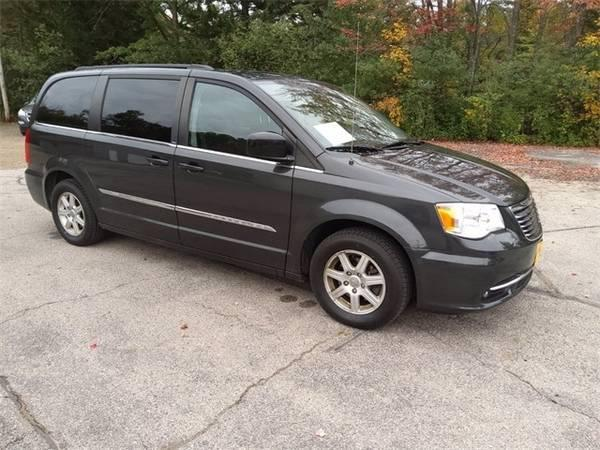Front_Bumper: (405, 230, 542, 313)
Front_Fender: (285, 142, 458, 283)
Front_Right_Door: (174, 144, 296, 278)
Front_Right_Window: (176, 79, 298, 172)
Front_Windshield: (260, 82, 420, 153)
Grille: (495, 186, 542, 239)
Hood: (339, 144, 527, 203)
Rear_Bumper: (24, 172, 49, 212)
Rear_Fender: (27, 77, 102, 179)
Rear_Right_Door: (81, 130, 183, 249)
Rear_Right_Window: (89, 77, 188, 148)
Right_Headlight: (435, 203, 508, 241)
Roof: (31, 66, 329, 159)
Wheel: (305, 227, 412, 331), (50, 176, 104, 244)
